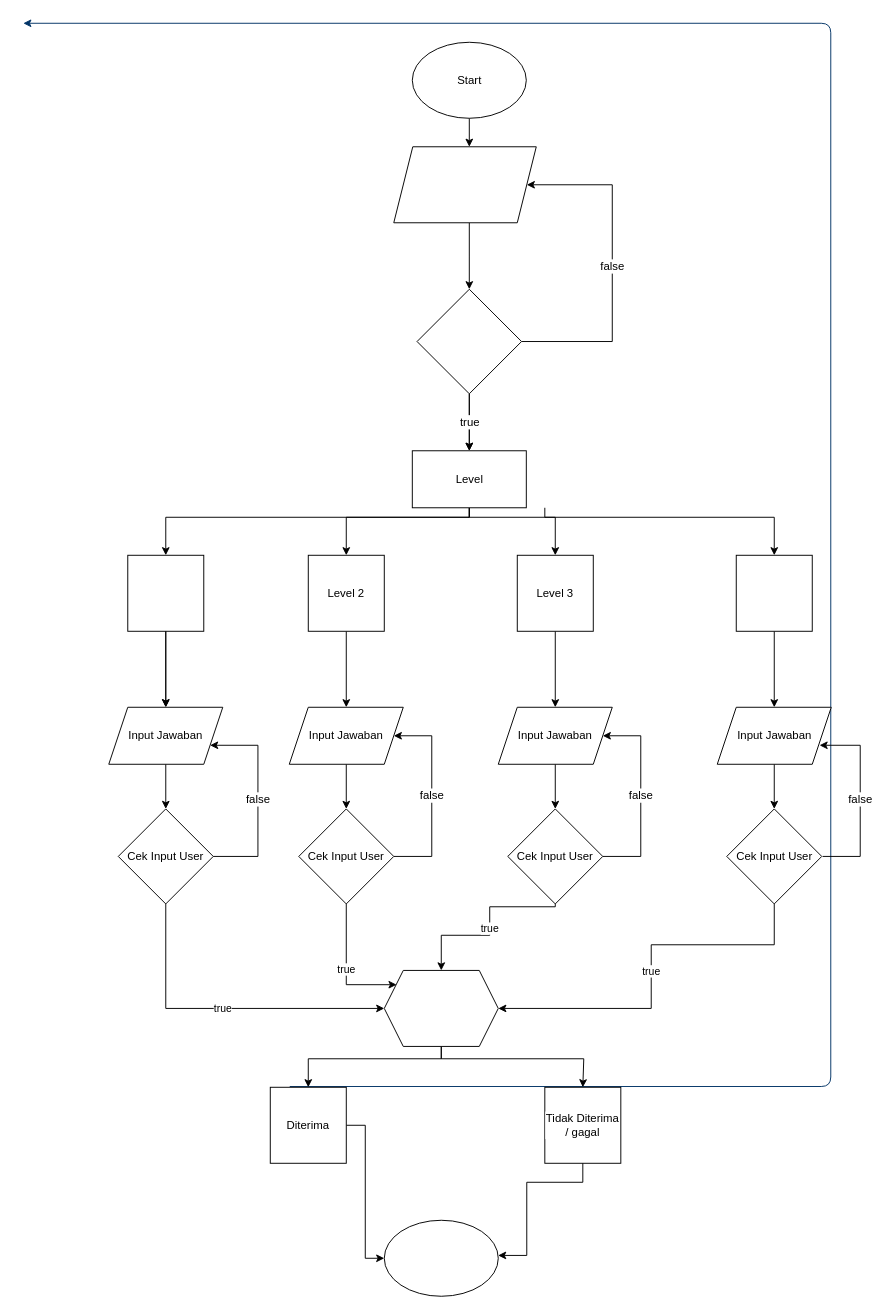
The diagram is 888 pixels wide and 1313 high, and some of its shapes have lost their labels. The centre of each missing label's shape, as x and y in pixels:
"cek data user" goes at (469,341).
"End" goes at (440,1257).
"Input nomor kandidat & nama lengkap" goes at (464,184).
"Level 1" goes at (165,592).
"Level 4" goes at (773,592).
"Total Skor Point" goes at (440,1007).
